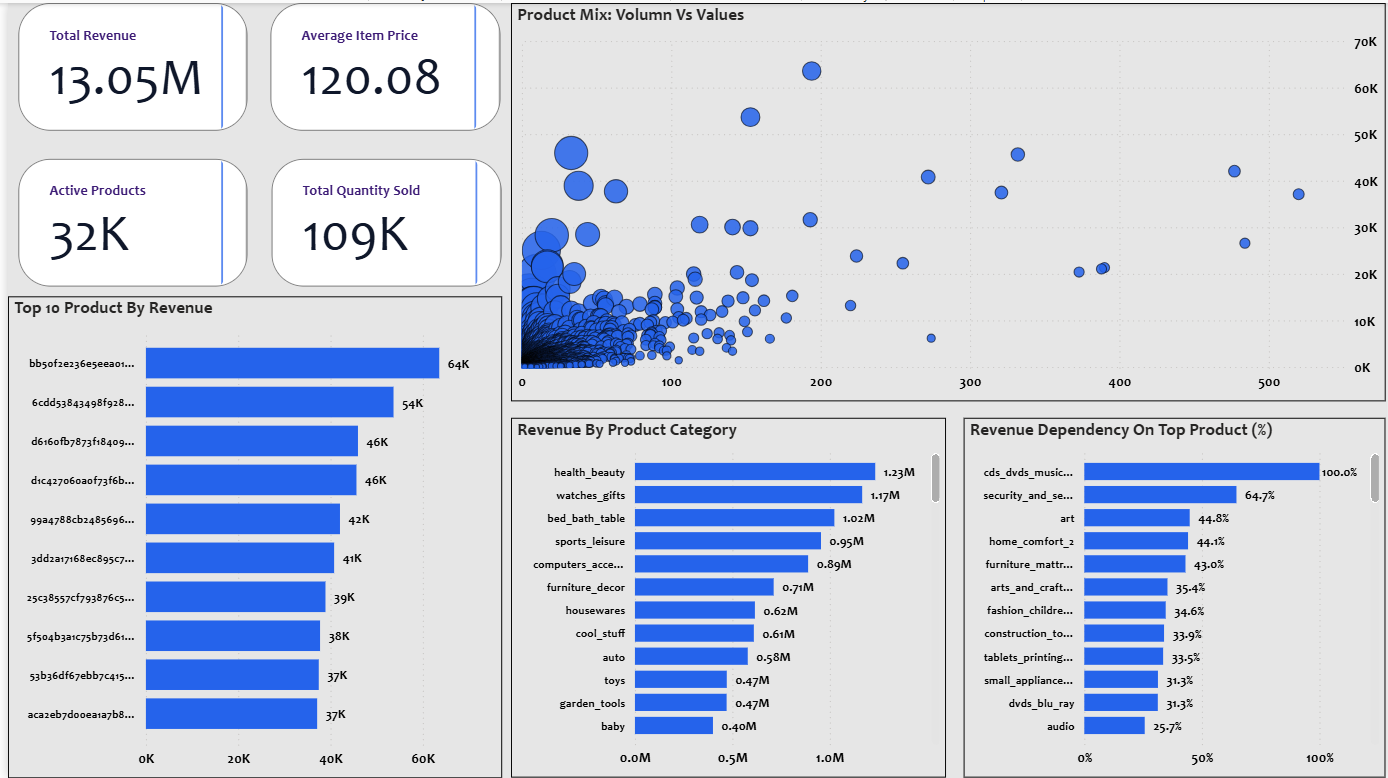

Layout of this report page (visuals, bound fields, positions):
{"tool":"powerbi","page":{"name":"Product Performence","canvas":[1280,720],"ordinal":3},"visuals":[{"type":"cardVisual","fields":{"Data":["_measures.Total Revenue"]},"box":[0,68.1,319.3,135.2],"z":0},{"type":"barChart","title":"Top 10 Product By Revenue","fields":{"Category":["dim_product.product_id"],"Y":["_measures.Total Revenue"]},"box":[0,385.3,458.8,334.2],"z":1000},{"type":"cardVisual","fields":{"Data":["_measures.Total Quantity Sold"]},"box":[333.1,231.6,303,135],"z":2000},{"type":"scatterChart","title":"Product Mix: Volumn Vs Values","fields":{"X":["_measures.Total Quantity Sold"],"Y":["_measures.Total Revenue"],"Size":["_measures.Average Item Price"],"Category":["dim_product.product_id"]},"box":[654.6,12.8,625.9,357.6],"z":3000},{"type":"cardVisual","fields":{"Data":["_measures.Average Item Price"]},"box":[331.4,68.1,303,135],"z":4000},{"type":"barChart","title":"Revenue By Product Category","fields":{"Category":["dim_product.product_category_name_englist"],"Y":["_measures.Total Revenue"]},"box":[467.8,385.6,404.4,334.4],"z":5000},{"type":"cardVisual","fields":{"Data":["_measures.Active Products"]},"box":[0,232,319.3,134.1],"z":6000},{"type":"barChart","title":"Revenue Dependency On Top Product (%)","fields":{"Category":["dim_product.product_category_name_englist"],"Y":["_measures.Category Dependency %"]},"box":[887.8,385.6,392.2,334.4],"z":7000}]}

Visuals, with their boxes in screenshot pixels (x1, y1, x2, y2), scaled from the page's 1280x720 canvas onto the 1388x778 screenshot:
cardVisual - _measures.Total Revenue: [x1=0, y1=74, x2=346, y2=220]
"Top 10 Product By Revenue" barChart: [x1=0, y1=416, x2=498, y2=777]
cardVisual - _measures.Total Quantity Sold: [x1=361, y1=250, x2=690, y2=396]
"Product Mix: Volumn Vs Values" scatterChart: [x1=710, y1=14, x2=1387, y2=400]
cardVisual - _measures.Average Item Price: [x1=359, y1=74, x2=688, y2=219]
"Revenue By Product Category" barChart: [x1=507, y1=417, x2=946, y2=777]
cardVisual - _measures.Active Products: [x1=0, y1=251, x2=346, y2=396]
"Revenue Dependency On Top Product (%)" barChart: [x1=963, y1=417, x2=1387, y2=777]
